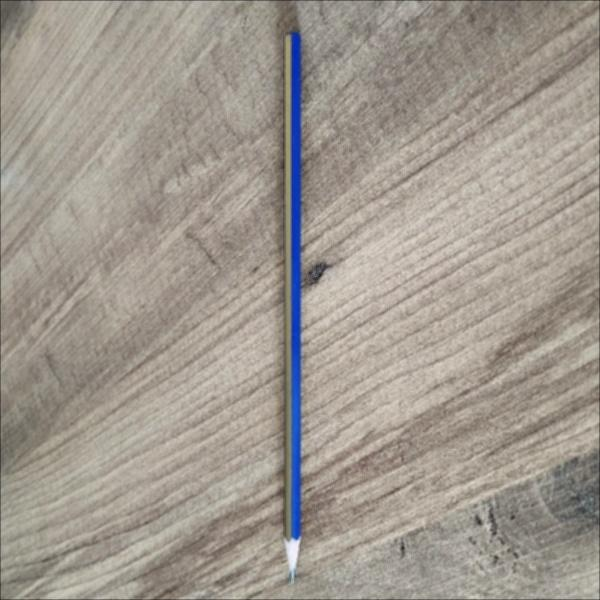pencil: (272, 28, 308, 585)
